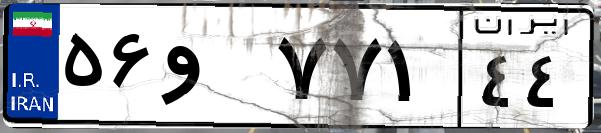1: (385, 28, 445, 110)
4: (475, 38, 525, 113), (525, 38, 570, 115)
5: (57, 26, 110, 100)
6: (110, 28, 158, 98)
7: (270, 28, 330, 110), (330, 28, 385, 110)
و: (158, 20, 270, 120)
